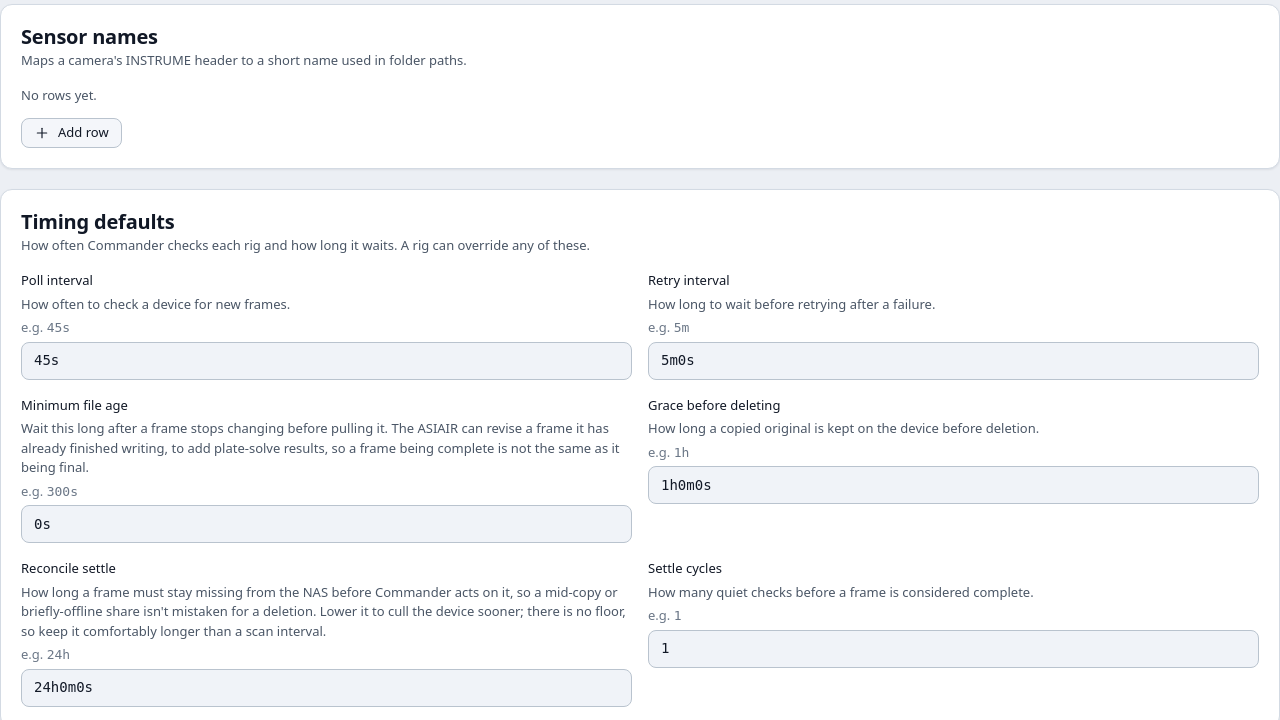
Test case: Settings unsaved-edits guard › asks before in-app navigation discards an edit, and Keep editing stays
(page scrolled)
Replace the text in the field labelled "Poll interval" with "90s": (326, 361) [21,342,632,380]
(page scrolled)
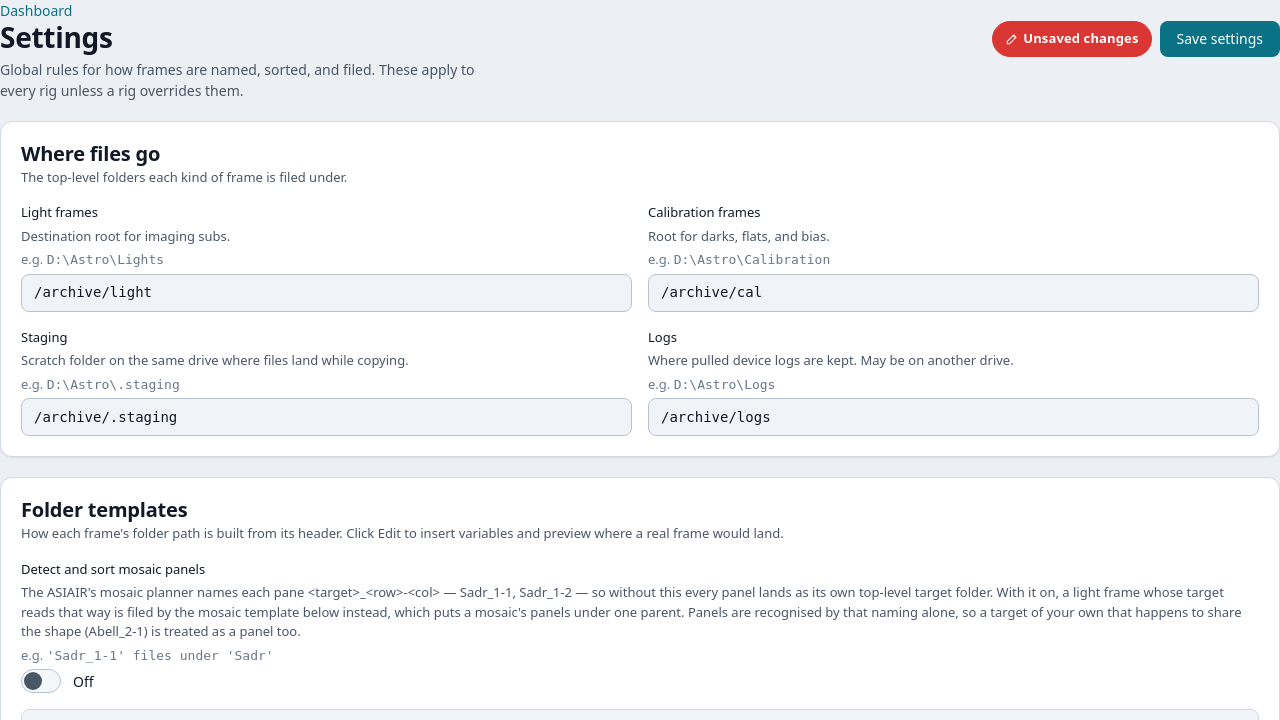
Click the link "Dashboard": (36, 10) [0,1,72,20]
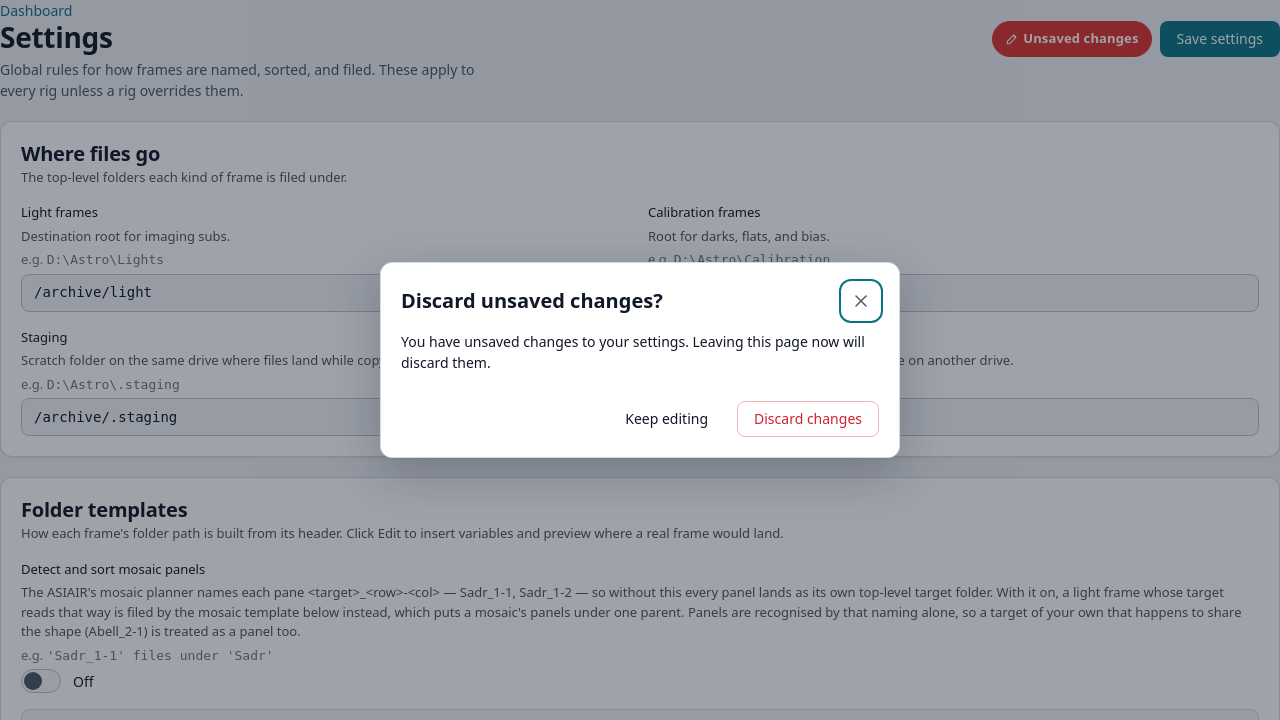
Check: the heading "Discard unsaved changes?" is shown, box [401,289,663,313]
Click the button "Keep editing": (667, 419) [608,401,725,437]
(page scrolled)
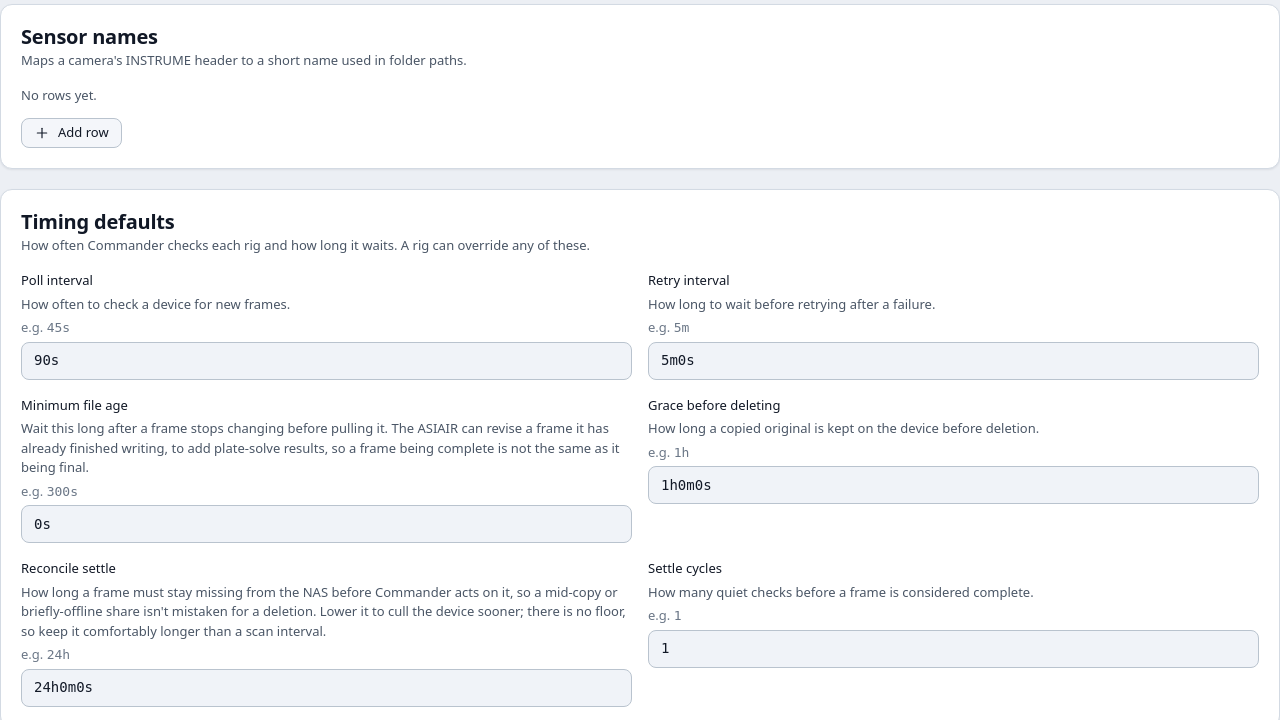
Check: the heading "Discard unsaved changes?" is gone
